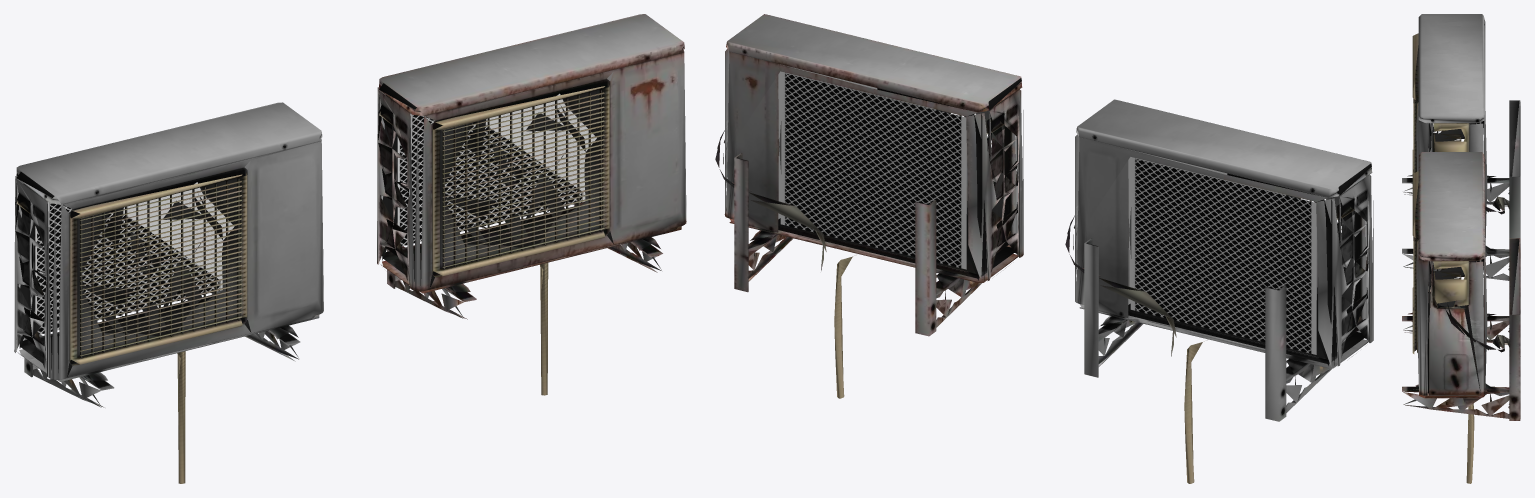
Rendered from exterior_aircon_unit.gltf.
3 renders of one model, left to right at view 1: azimuth 30°, elevation 25°; view 2: azimuth 150°, elevation 25°; view 3: azimuth 270°, elevation 25°, orthographic. The views are drawn at different scales.
Parts seen in each view (by area): view 1: exterior_aircon_unit, exterior_aircon_unit_rusted; view 2: exterior_aircon_unit_rusted, exterior_aircon_unit; view 3: exterior_aircon_unit_rusted, exterior_aircon_unit.
Part boxes in pixels (<box>): exterior_aircon_unit: <box>14,102,323,483</box>; exterior_aircon_unit_rusted: <box>377,14,686,395</box>; exterior_aircon_unit_rusted: <box>715,14,1023,398</box>; exterior_aircon_unit: <box>1065,99,1373,483</box>; exterior_aircon_unit_rusted: <box>1402,152,1520,483</box>; exterior_aircon_unit: <box>1402,14,1520,280</box>.
Bounding box in the file's own units: 1.78 × 0.9172 × 0.3637.
4 materials, 4 textured.
